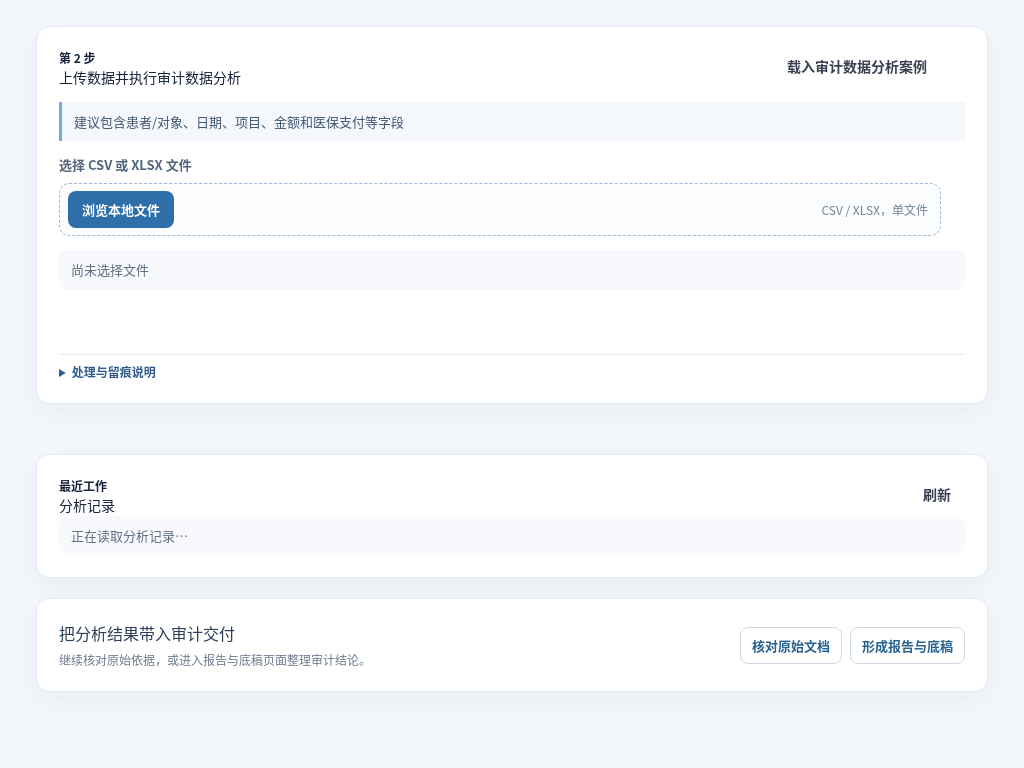
Test: ReplicaAnalyticsWorkbench › ignores an older history request that settles after a retry
(page scrolled)
What coordinates should you click on to do the following:
click the button "刷新"
I would click on:
 (937, 495)
Its box is [909, 477, 965, 513].
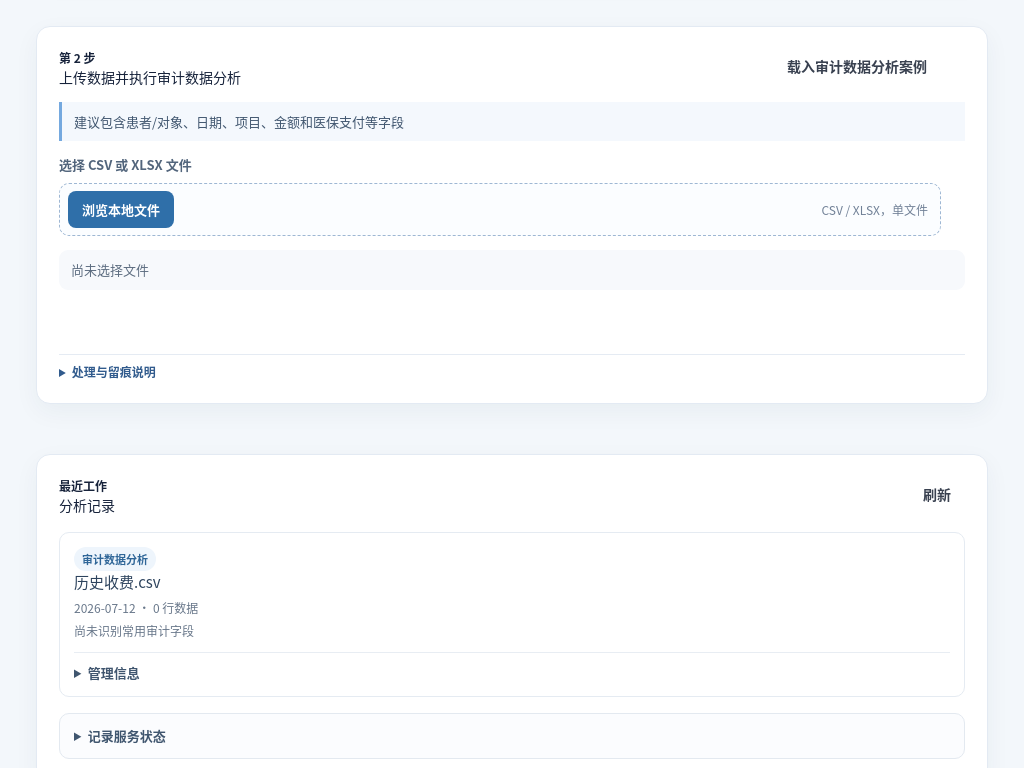
Expected: the heading "历史收费.csv" is shown, [74, 571, 161, 592]
